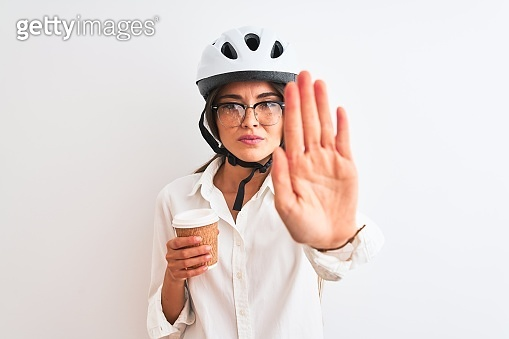helmet: (194, 24, 301, 162)
